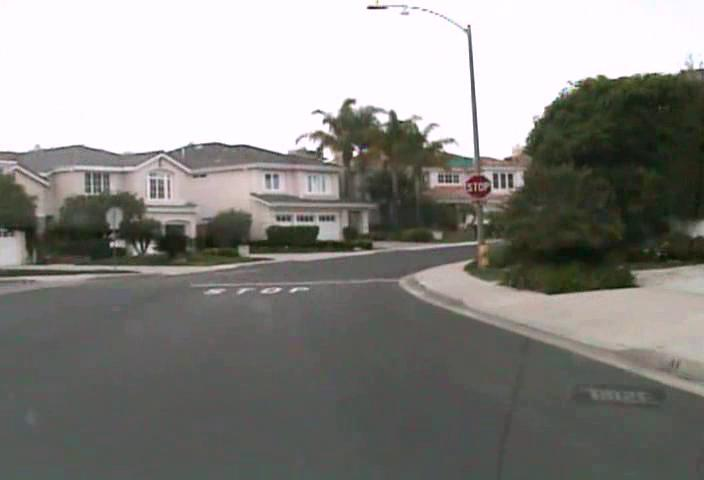stop: (464, 173, 492, 200)
